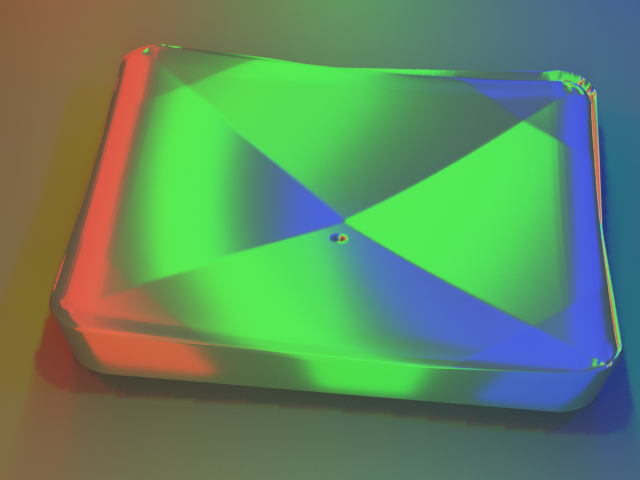dent: (318, 224, 357, 260)
smash: (0, 0, 639, 479)
